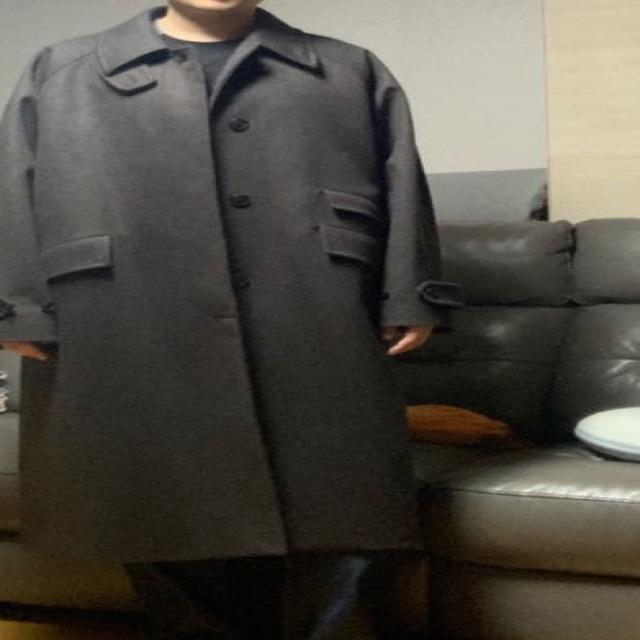coat: (0, 2, 463, 566)
